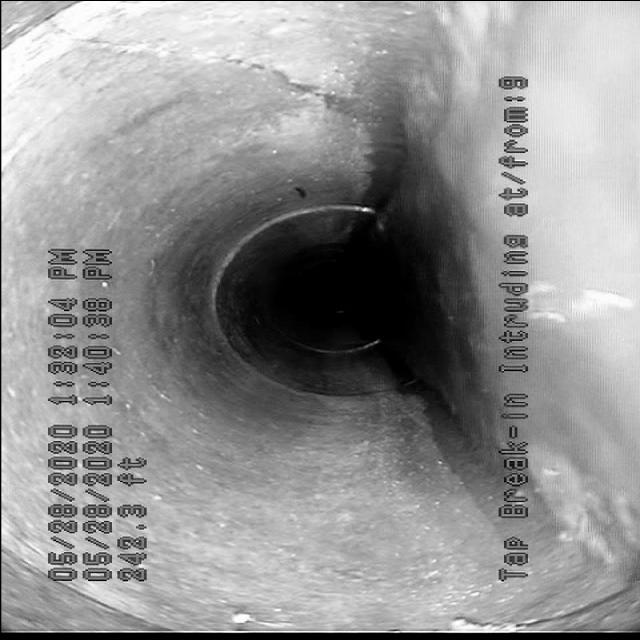Crack: (90, 29, 393, 114)
